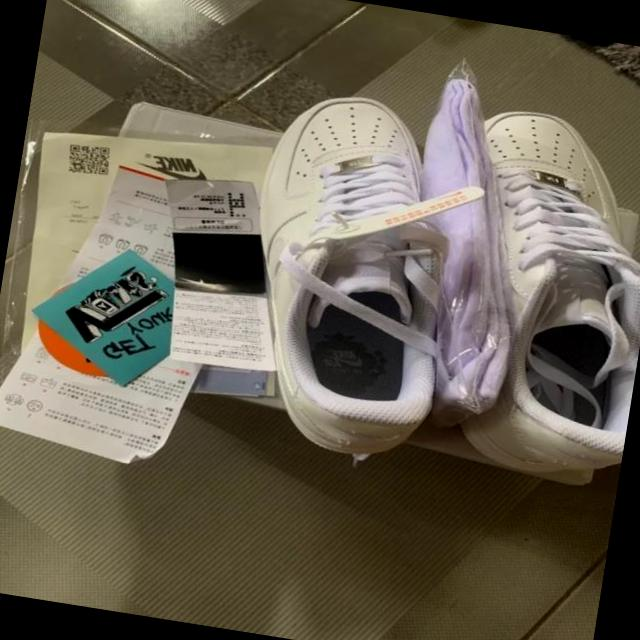nike_fake_airforce: (196, 79, 496, 472), (420, 102, 640, 487)
